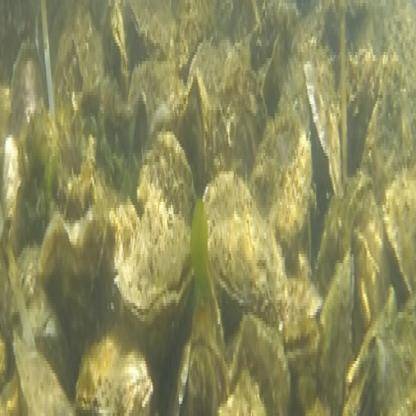Oyster- Indeterminate: (203, 168, 287, 321), (116, 189, 195, 339), (177, 73, 210, 198), (181, 333, 230, 416), (276, 282, 323, 329), (104, 3, 127, 93)
Oyster-Closed: (138, 133, 198, 235), (232, 319, 295, 416), (76, 339, 151, 416), (305, 62, 343, 204), (320, 252, 354, 405), (19, 338, 72, 416), (385, 168, 416, 287), (7, 45, 47, 136), (277, 131, 311, 236)
Oyster-Open: (282, 315, 321, 367)
